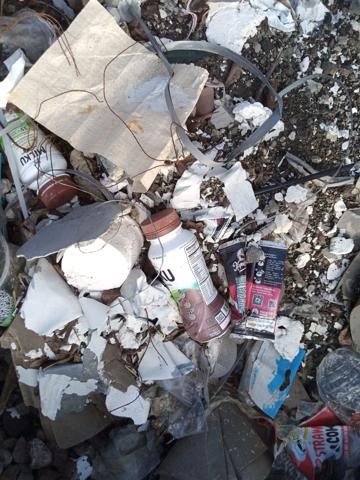botol_kaca: (137, 204, 236, 350)
